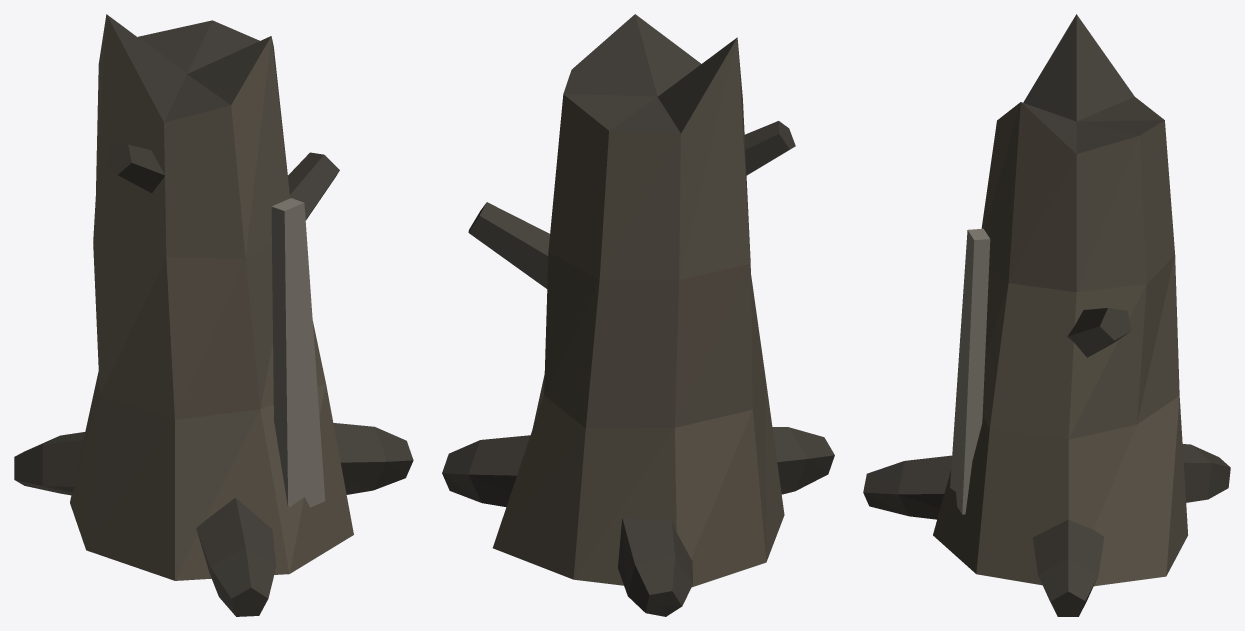
File: stump_burned_2.obj
3 views of the same model, side by side, from view 1: azimuth 30°, elevation 25°; view 2: azimuth 150°, elevation 25°; view 3: azimuth 270°, elevation 25° (orthographic). The views are drawn at different scales.
Visible parts, largest first — view 1: stump_burned_2; view 2: stump_burned_2; view 3: stump_burned_2.
Part boxes in pixels (bbox=[...]): stump_burned_2: bbox=[14, 14, 413, 616]; stump_burned_2: bbox=[442, 14, 834, 616]; stump_burned_2: bbox=[863, 14, 1230, 616].
Size of the model in its own units: 0.4231 by 0.66 by 0.4623.
